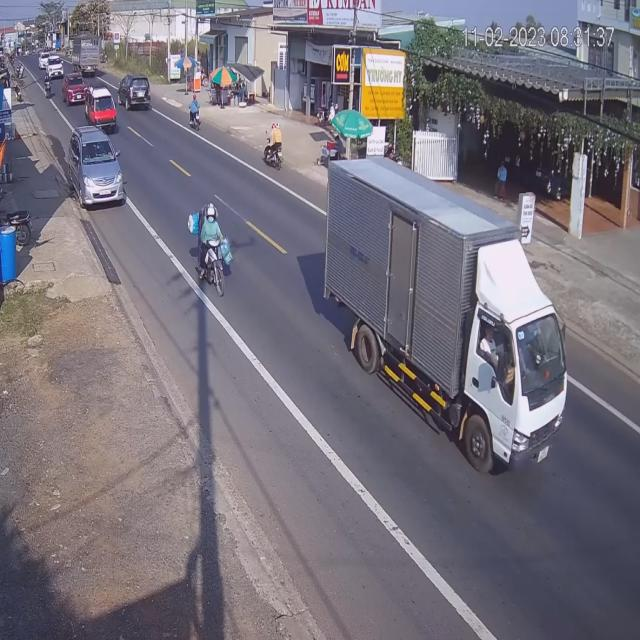car: (67, 125, 125, 209), (83, 85, 116, 132), (121, 76, 152, 113), (63, 68, 87, 107), (49, 54, 64, 80)
motorbike: (194, 200, 236, 292), (264, 121, 284, 170), (187, 95, 200, 134)
truck: (323, 150, 568, 472), (71, 39, 100, 72)
